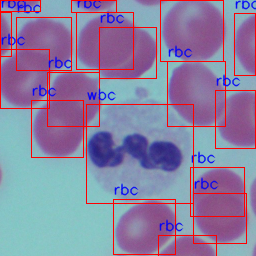rbc: (160, 0, 223, 61), (167, 61, 225, 126), (113, 199, 175, 254), (76, 12, 133, 69), (31, 100, 83, 157), (16, 17, 71, 70), (99, 27, 156, 78), (0, 49, 49, 108), (47, 72, 99, 126), (193, 193, 246, 243), (190, 167, 244, 216), (215, 90, 255, 148), (234, 13, 255, 75), (158, 235, 216, 256), (71, 0, 116, 12), (0, 12, 11, 56), (0, 0, 40, 11)
wbc: (86, 104, 193, 203)
